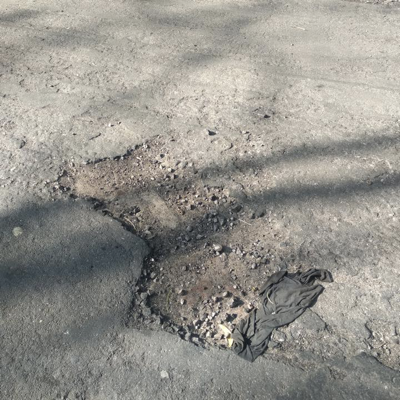pothole: (53, 135, 300, 357)
